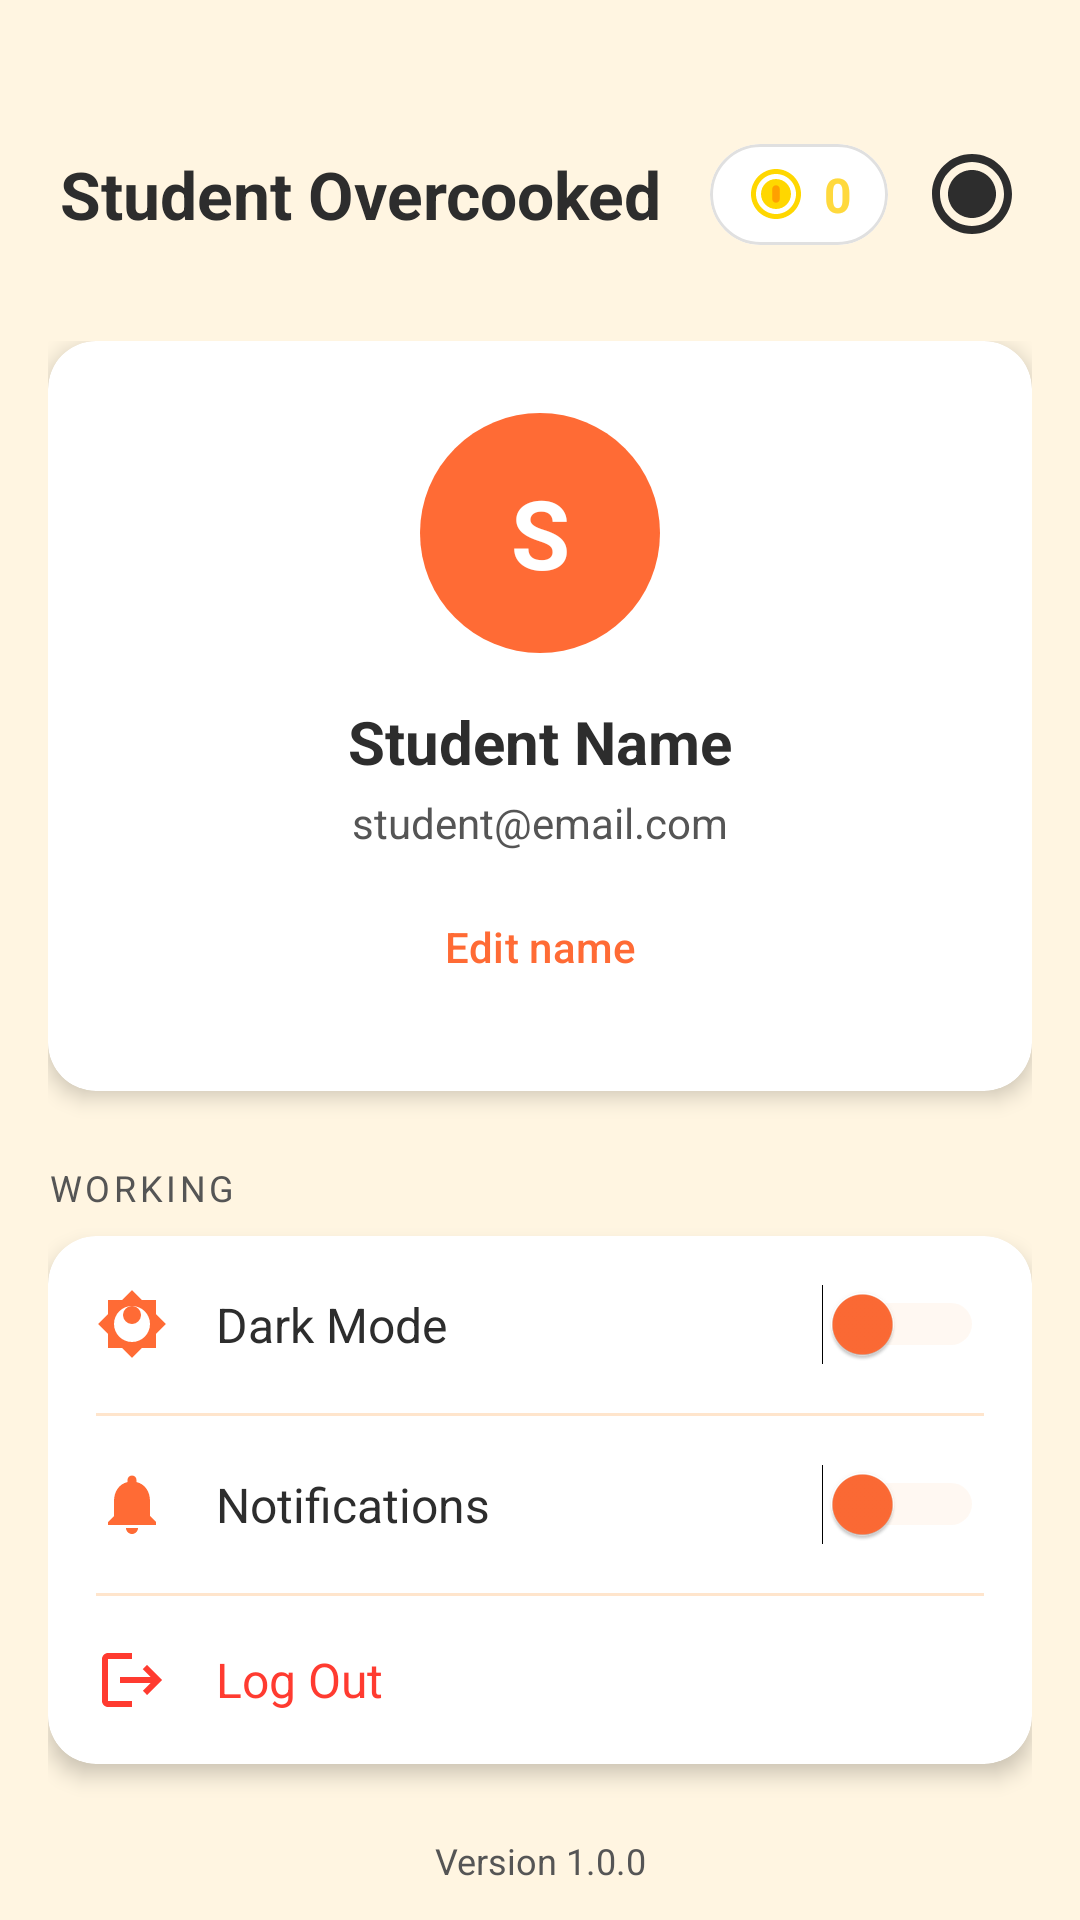

Point at icon controls on the screen. Image size 1080x1920, points as point (x, y).
Coins: point (776, 194)
